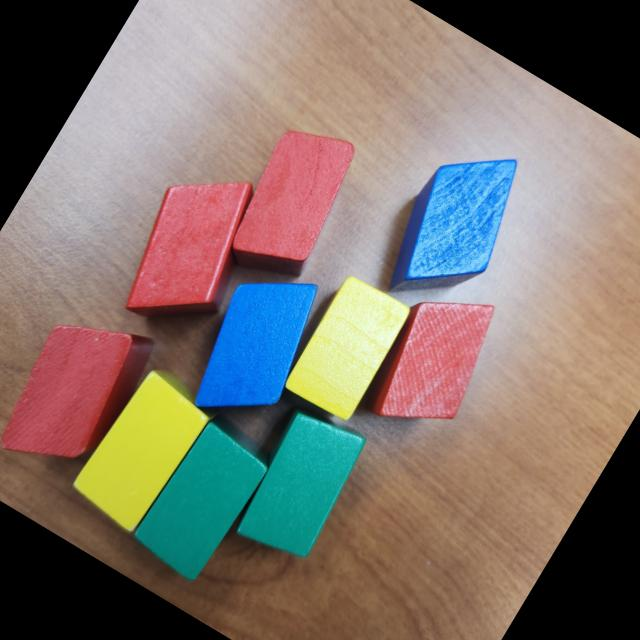blue: (366, 124, 544, 330), (172, 250, 340, 442)
green: (124, 407, 280, 589), (222, 398, 376, 574)
red: (104, 148, 282, 350), (0, 292, 165, 495), (353, 268, 515, 452), (215, 110, 371, 291)
yellow: (66, 360, 222, 540), (280, 272, 417, 426)
